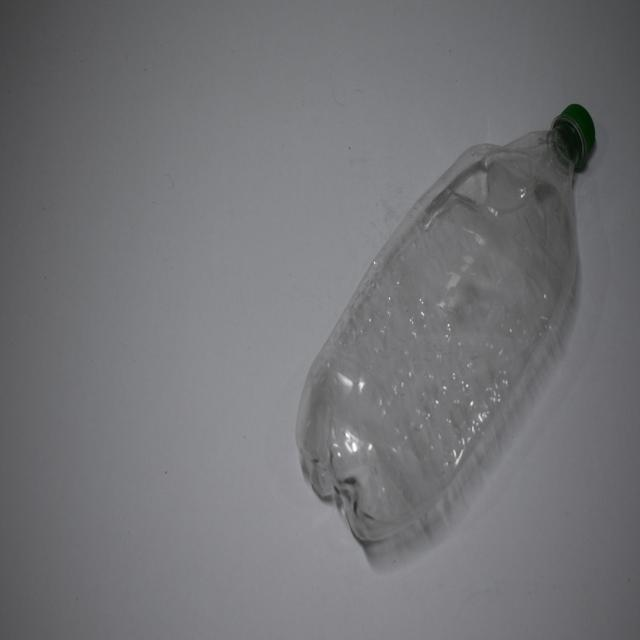bottle: (290, 82, 610, 589)
